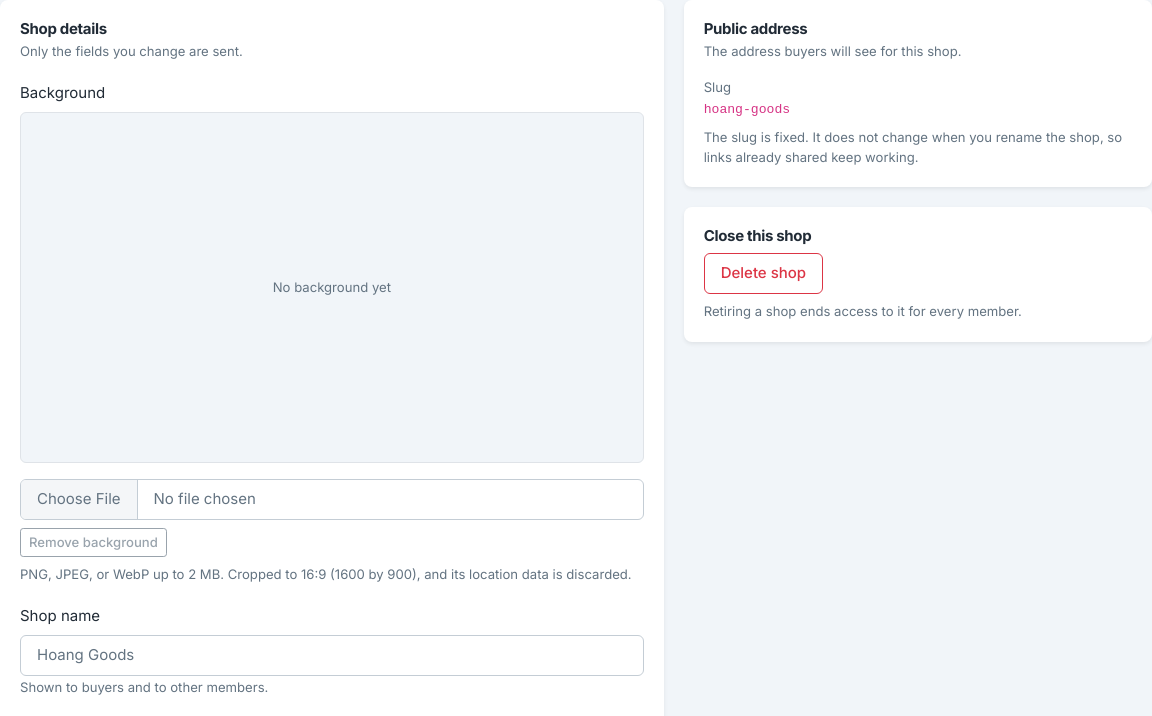
Test: shop settings › states that the shop's data is retained, not destroyed
Click the button "Delete shop": x=763, y=274 [704,254,823,294]
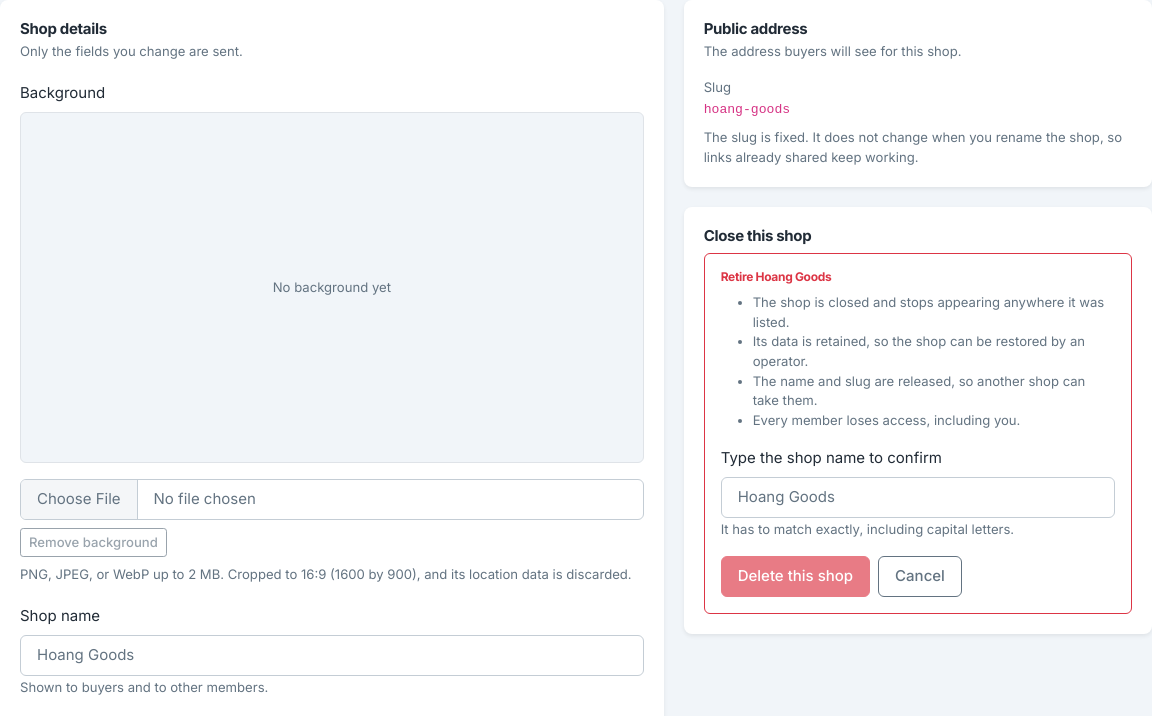
Expected: the list item "data is retained" is shown, [753,333,1085,369]
